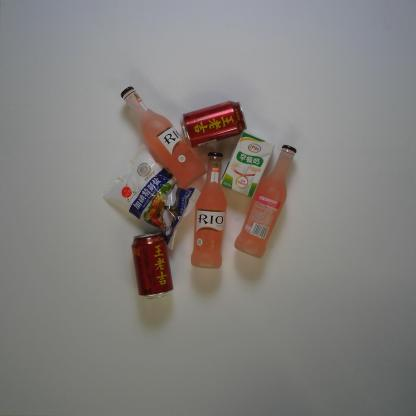Alcohol: (119, 85, 208, 190), (233, 142, 298, 258), (190, 151, 228, 270)
Drink: (181, 99, 248, 149), (131, 230, 176, 301)
Milk: (219, 130, 276, 198)
Seasoner: (100, 143, 202, 251)
